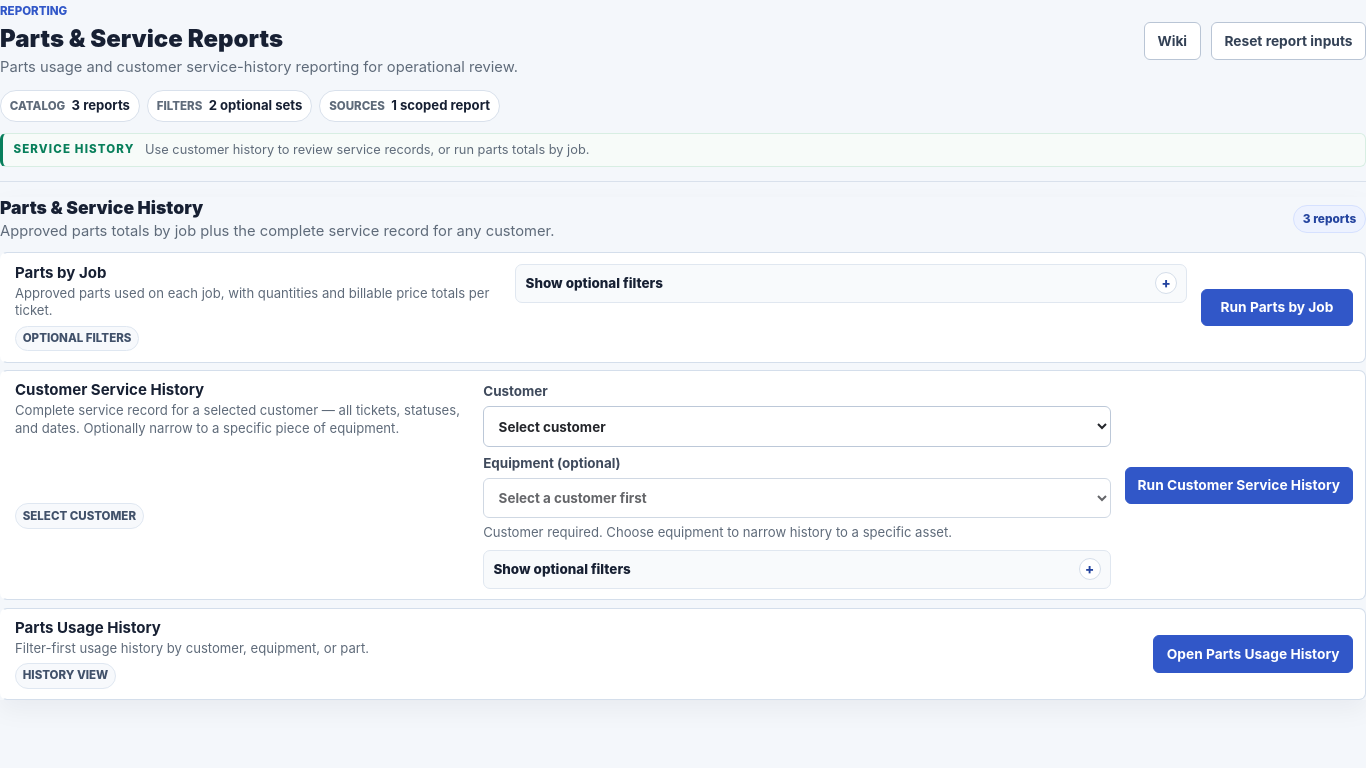
Scenario: ReportsPage › filters Parts by Job to a selected job ticket
The image size is (1366, 768).
Click the 1st heading "Show optional filters": (594, 283) [526,275,663,291]
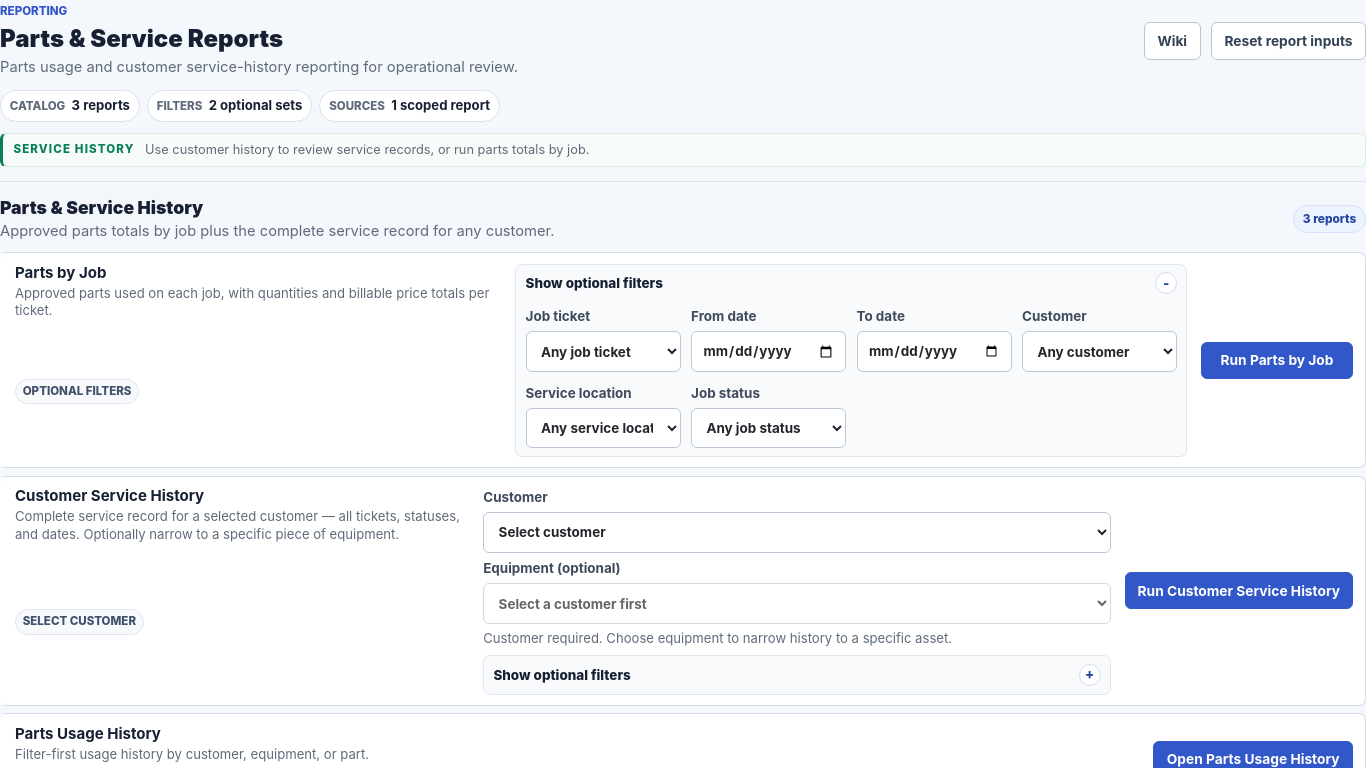
Select "JT-2026-000123 - Labor review job" in the dropdown named "Parts by Job job ticket filter": (603, 352) [526,331,681,372]
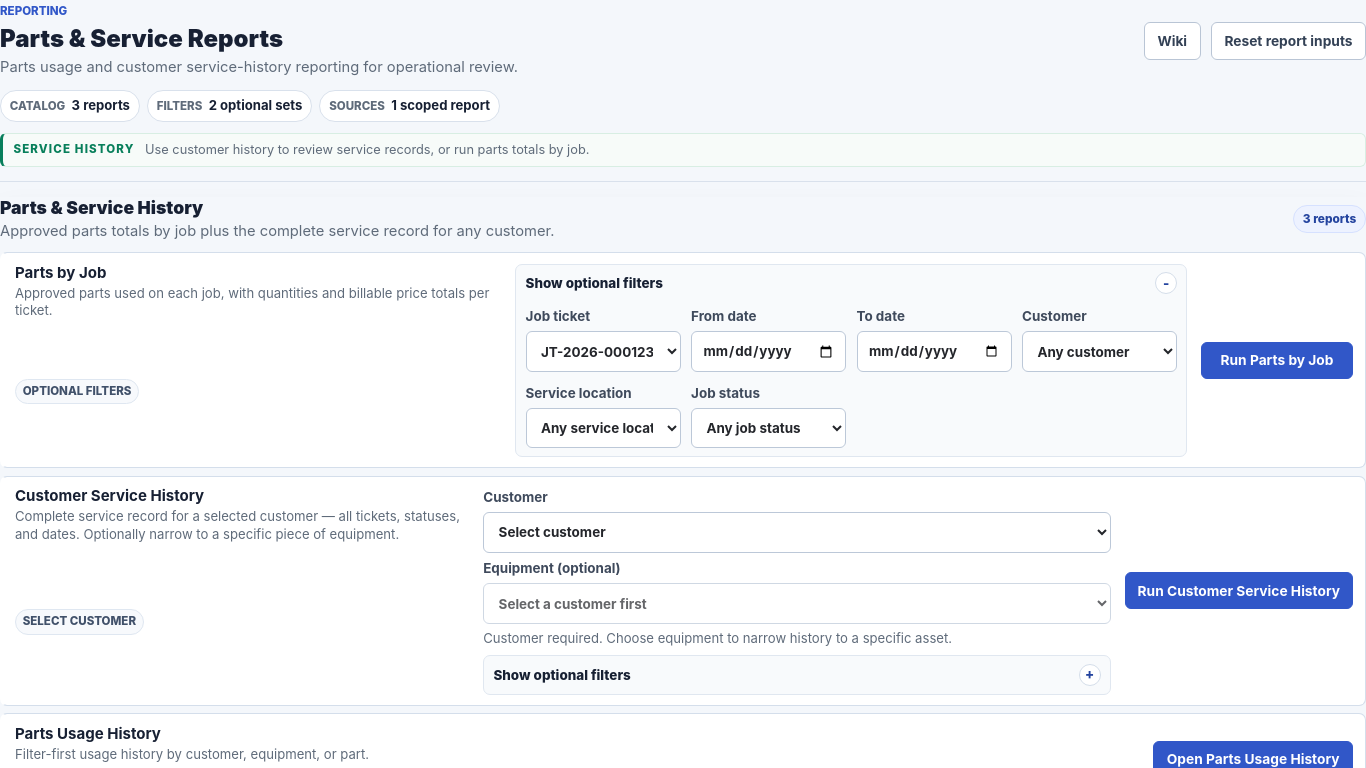
Click the button "Run Parts by Job": (1277, 360) [1201,342,1353,379]
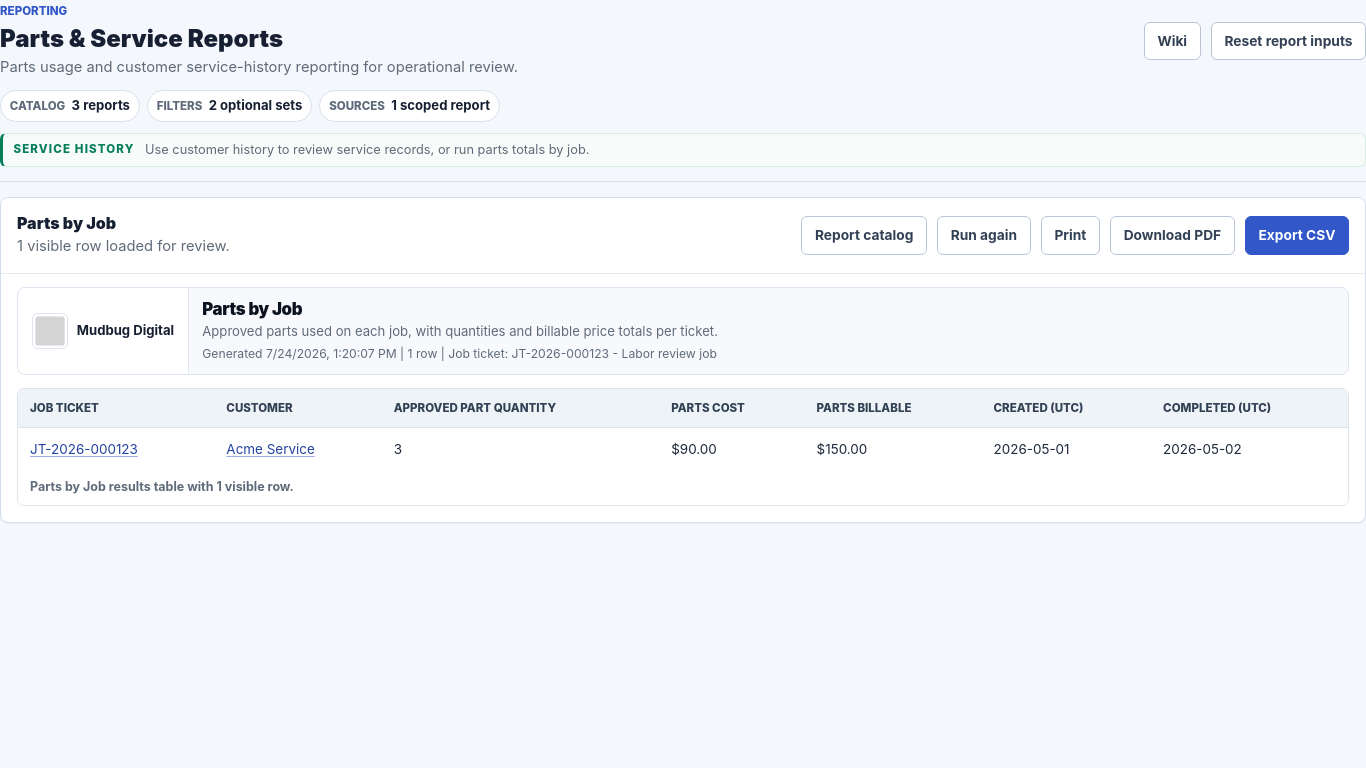
Result: the cell "$150.00" is shown at [805,428,982,469]
Result: the element named "report summary" shows "Job ticket: JT-2026-000123 - Labor review job" at [202,346,717,361]
